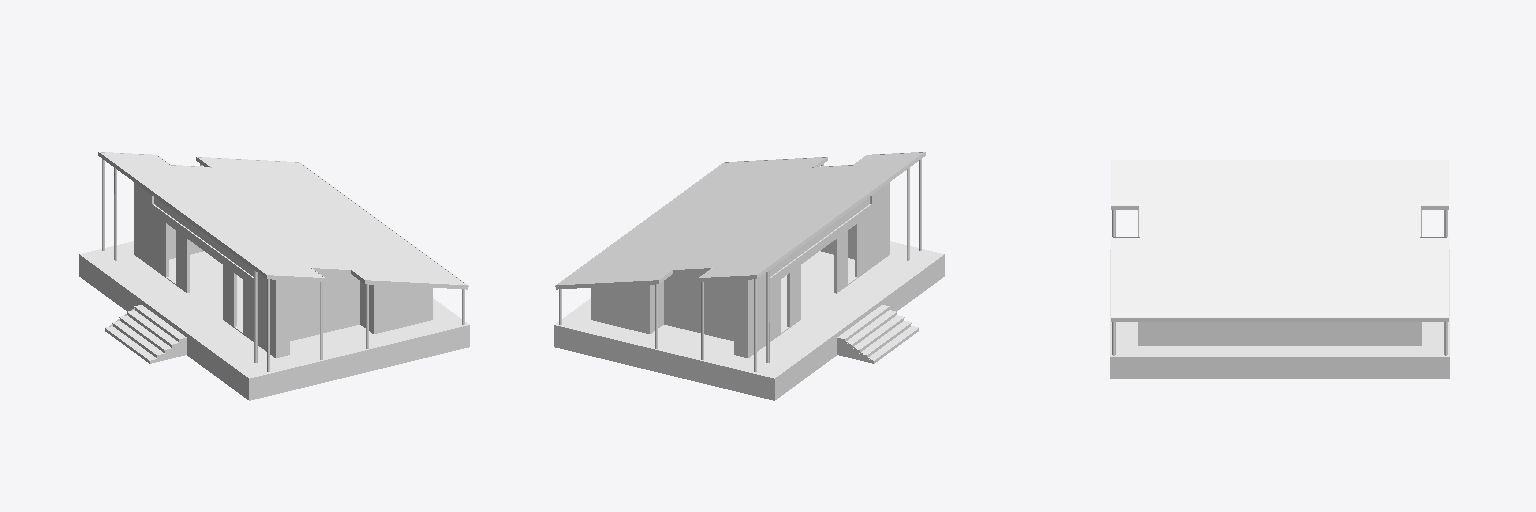
The model's file is Researchers Building 2.obj.
3 views of the same model, side by side, from view 1: azimuth 30°, elevation 25°; view 2: azimuth 150°, elevation 25°; view 3: azimuth 270°, elevation 25° (orthographic).
Visible parts, largest first — view 1: House_12, Polygon; view 2: House_12, Polygon; view 3: House_12.
Part boxes in pixels (x1,y1,x2,y2): House_12: (79, 152, 469, 400); Polygon: (105, 305, 186, 363); House_12: (554, 152, 944, 400); Polygon: (837, 305, 918, 363); House_12: (1110, 160, 1449, 378).
Bounding box in the file's own units: 1224 × 549 × 1398.